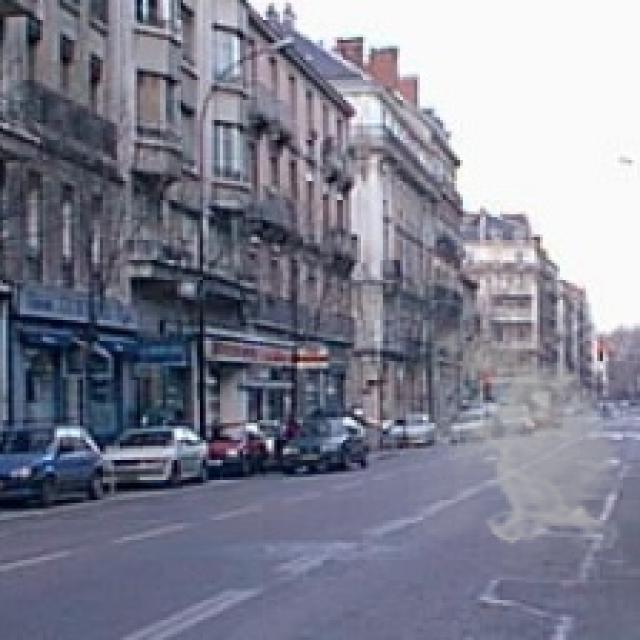smoke: (408, 323, 632, 548)
